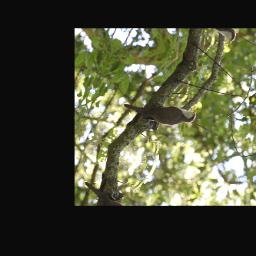Cuckoo: (120, 74, 201, 143)
